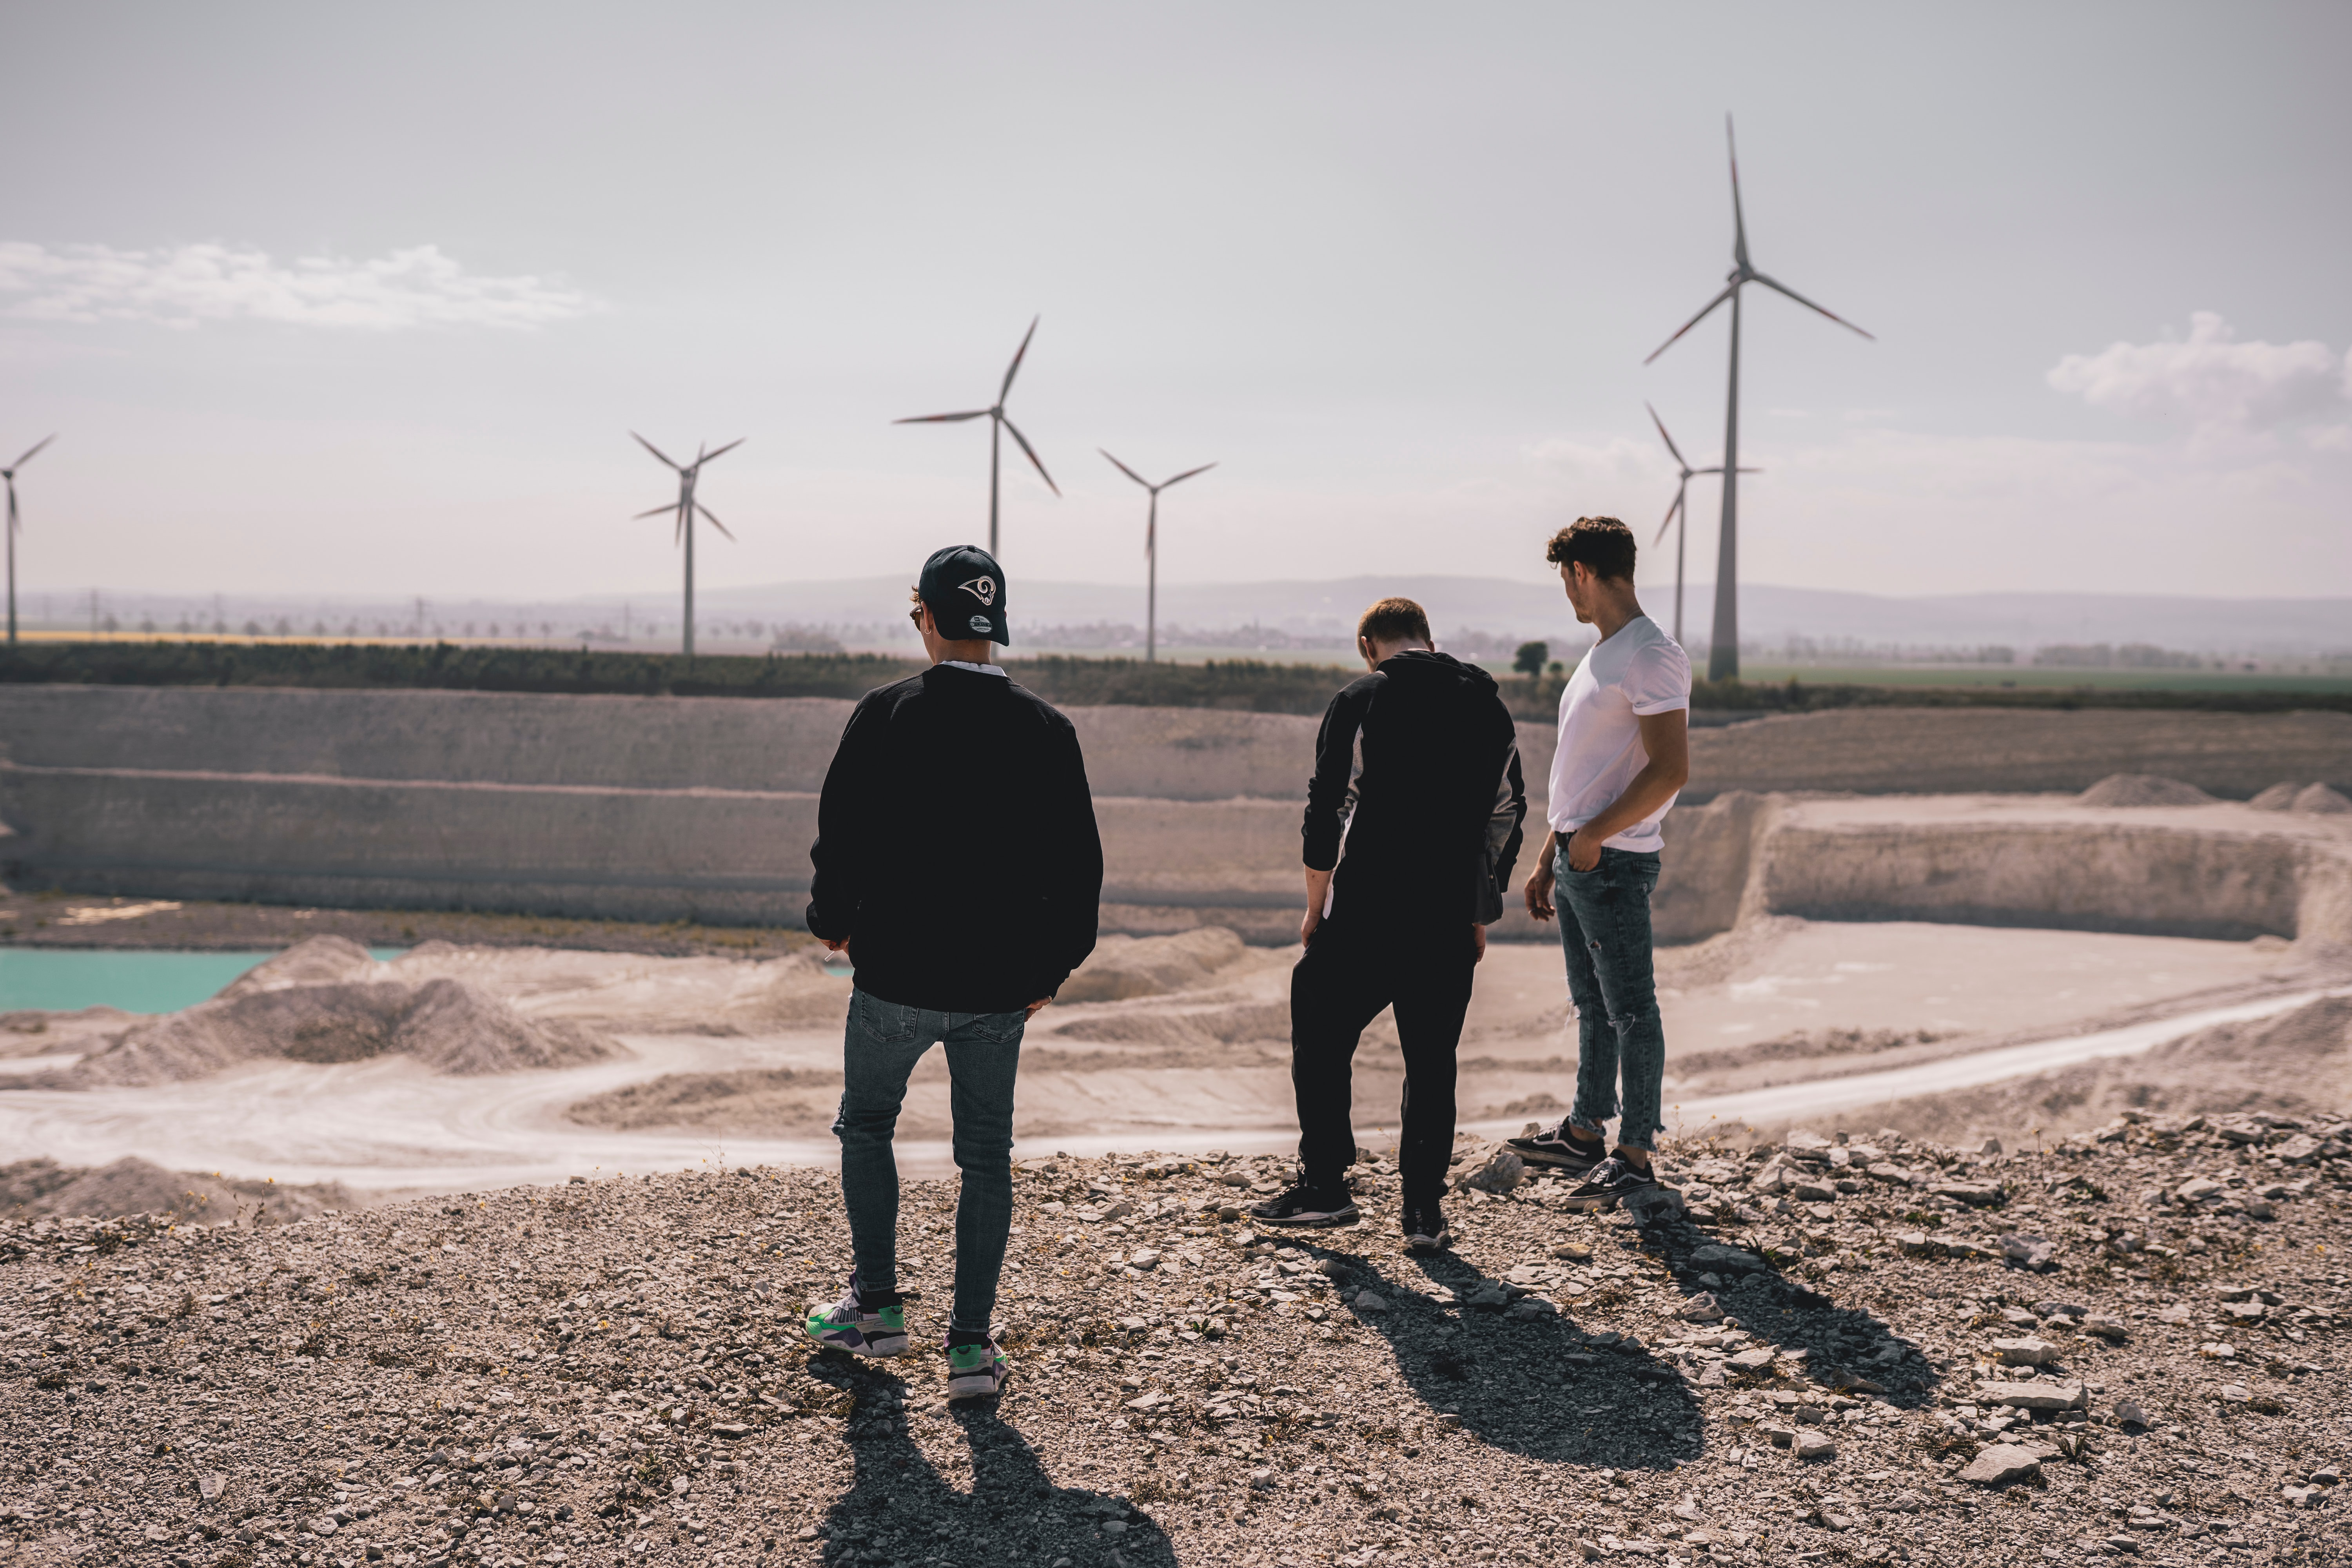person: (807, 549, 1105, 1399), (1253, 602, 1528, 1241), (1521, 516, 1688, 1198)
